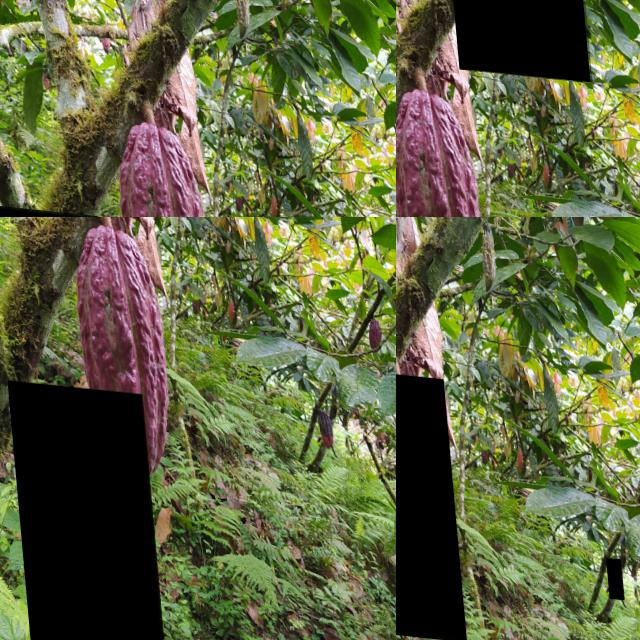Fitoftora: (1, 376, 154, 640), (599, 546, 617, 589)
Sana: (396, 364, 458, 634), (445, 0, 588, 72)
